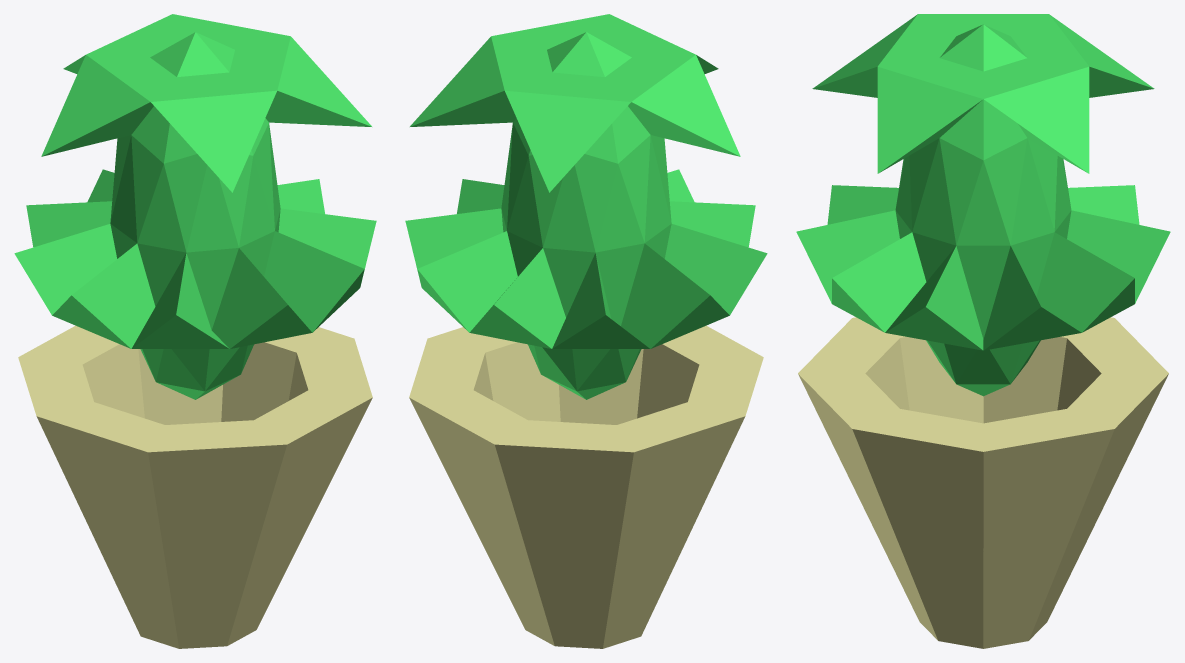
Rendered from Plant.fbx.
3 renders of one model, left to right at view 1: azimuth 30°, elevation 25°; view 2: azimuth 150°, elevation 25°; view 3: azimuth 270°, elevation 25°, orthographic.
Parts seen in each view (by area): view 1: Icosphere, Cylinder; view 2: Icosphere, Cylinder; view 3: Icosphere, Cylinder.
Part boxes in pixels (left/top/right/bottom): Icosphere: left=14, top=14, right=376, bottom=399; Cylinder: left=18, top=325, right=372, bottom=648; Icosphere: left=405, top=14, right=767, bottom=399; Cylinder: left=409, top=325, right=763, bottom=648; Icosphere: left=796, top=14, right=1170, bottom=396; Cylinder: left=798, top=317, right=1168, bottom=648.
Size of the model in its own units: 2.71 by 4.81 by 2.73.
